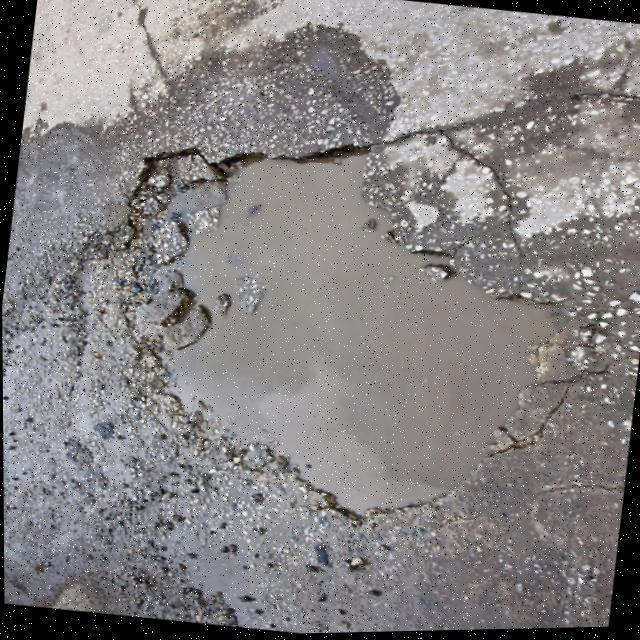Pothole: (64, 149, 567, 517)
